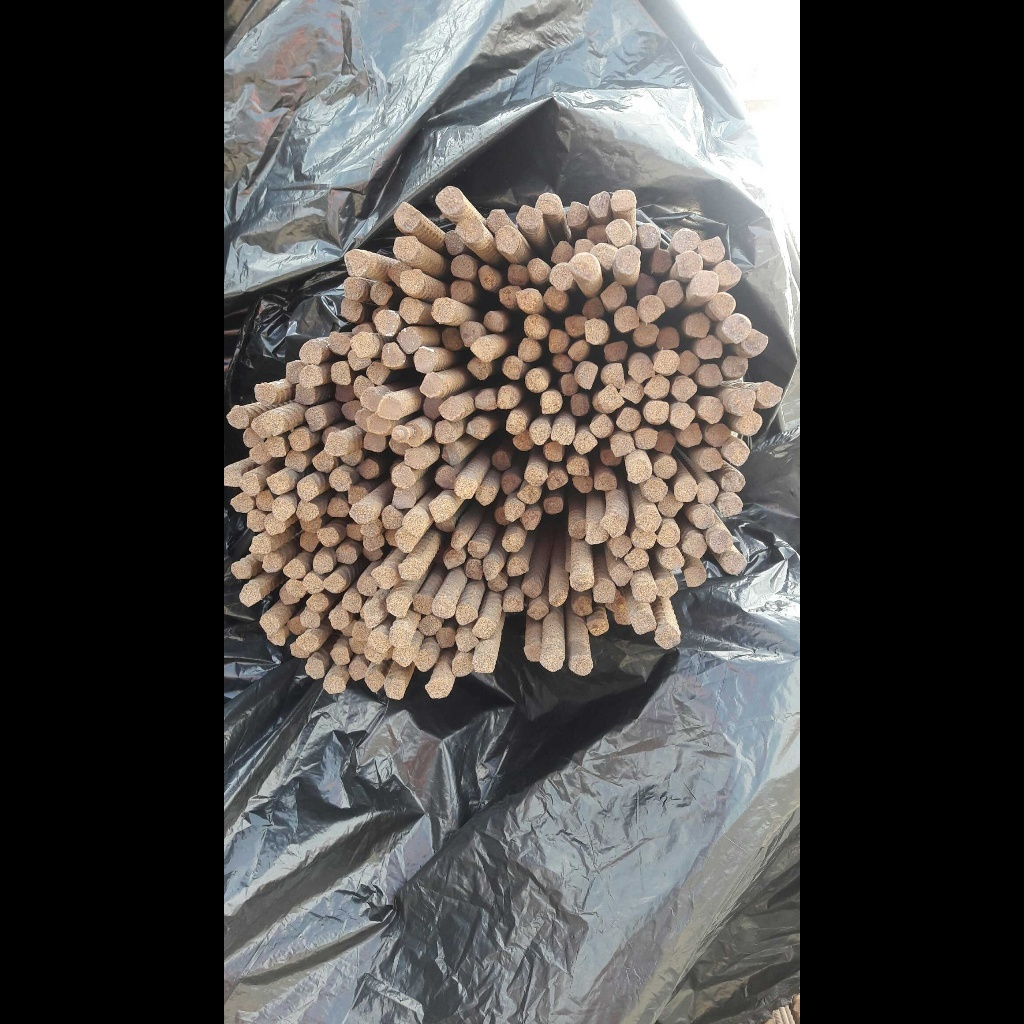dipstick: (569, 253, 600, 283), (720, 314, 751, 342), (392, 202, 418, 233), (342, 248, 369, 276), (435, 186, 463, 213), (637, 295, 664, 323), (597, 384, 624, 412), (697, 395, 724, 423), (659, 279, 685, 308), (727, 390, 756, 416), (398, 296, 423, 326), (411, 345, 436, 375), (710, 292, 735, 322), (458, 319, 482, 350), (700, 236, 727, 263), (643, 400, 670, 427), (537, 646, 565, 672), (494, 226, 520, 254), (672, 227, 700, 253), (735, 411, 763, 437), (614, 246, 639, 275), (392, 235, 419, 261), (380, 341, 407, 367), (590, 243, 616, 270), (693, 271, 720, 297), (613, 306, 640, 332), (707, 526, 733, 553), (675, 251, 703, 276), (716, 260, 741, 288), (696, 335, 724, 360), (670, 376, 698, 401), (404, 508, 430, 534), (515, 205, 541, 231), (600, 282, 626, 308), (625, 458, 651, 484), (375, 309, 400, 336), (599, 363, 626, 388), (252, 414, 281, 437), (574, 362, 597, 391), (298, 339, 323, 365), (470, 336, 495, 362), (516, 287, 541, 313), (523, 314, 549, 339), (590, 412, 615, 438), (685, 313, 711, 338), (742, 330, 768, 355), (670, 403, 696, 428), (683, 533, 708, 559), (584, 519, 609, 545), (631, 610, 657, 635), (397, 326, 421, 353), (436, 397, 463, 421), (588, 191, 612, 218), (758, 381, 782, 408), (655, 520, 679, 547), (431, 297, 454, 325), (614, 408, 642, 431), (644, 377, 673, 399), (425, 676, 450, 701), (675, 350, 700, 375), (724, 440, 749, 465), (672, 478, 697, 503), (683, 563, 708, 588), (631, 526, 656, 551), (449, 254, 473, 280), (457, 218, 483, 242), (377, 394, 401, 420), (390, 465, 416, 489), (551, 420, 575, 446), (607, 219, 631, 245), (572, 430, 598, 454), (610, 433, 636, 457), (584, 318, 607, 345), (656, 493, 683, 516), (297, 364, 325, 386), (697, 365, 725, 387), (230, 493, 259, 514), (369, 281, 393, 306), (366, 414, 391, 438), (272, 497, 297, 521), (543, 286, 567, 311), (582, 295, 607, 319), (634, 322, 659, 346), (628, 356, 653, 380), (699, 447, 724, 471), (656, 624, 680, 649), (438, 325, 461, 351), (394, 529, 420, 552), (609, 189, 635, 212), (497, 283, 520, 309), (636, 273, 659, 299), (722, 355, 748, 378), (678, 423, 704, 446), (696, 480, 719, 506), (634, 579, 657, 605), (367, 360, 389, 387), (603, 341, 630, 363), (654, 428, 676, 455), (566, 200, 587, 228), (392, 426, 421, 446), (398, 269, 422, 293), (481, 310, 505, 334), (465, 357, 489, 381), (383, 677, 407, 701), (637, 223, 661, 247), (517, 338, 541, 362), (654, 351, 678, 375), (620, 378, 644, 402), (635, 427, 659, 451), (328, 361, 351, 386), (293, 382, 316, 407), (563, 314, 586, 339), (652, 454, 675, 479), (351, 332, 373, 358), (500, 355, 522, 381), (535, 192, 561, 214), (415, 645, 436, 672), (433, 596, 454, 623), (339, 298, 363, 321), (450, 280, 473, 304), (328, 331, 351, 355), (253, 383, 276, 407), (539, 392, 563, 415), (525, 369, 549, 392), (486, 208, 510, 231), (507, 262, 530, 286), (657, 326, 681, 349), (705, 424, 729, 447), (718, 494, 741, 518), (645, 478, 668, 502), (637, 509, 660, 533), (475, 389, 497, 414), (326, 432, 348, 457), (227, 405, 249, 430), (454, 476, 476, 501), (527, 258, 549, 283), (390, 488, 416, 509), (345, 350, 372, 370), (435, 467, 458, 490), (388, 594, 411, 617), (551, 241, 574, 264), (341, 277, 365, 299), (265, 471, 287, 495), (405, 447, 429, 469), (440, 442, 462, 466), (473, 651, 495, 675), (569, 655, 593, 677), (723, 550, 745, 574), (601, 513, 623, 537), (661, 548, 683, 572), (420, 372, 441, 397), (305, 407, 326, 432), (312, 450, 333, 475), (472, 481, 493, 506), (553, 266, 574, 291), (721, 471, 746, 492), (609, 534, 630, 559), (477, 264, 496, 291), (496, 387, 518, 410), (329, 469, 351, 492), (287, 429, 310, 451), (433, 421, 456, 443), (372, 566, 394, 589), (593, 581, 615, 604), (569, 394, 591, 417), (692, 503, 714, 526), (656, 576, 678, 599), (412, 592, 433, 616), (548, 328, 568, 353), (624, 550, 649, 570), (386, 260, 405, 286), (363, 434, 389, 453), (350, 503, 376, 522), (506, 496, 525, 522), (652, 248, 671, 274), (296, 479, 318, 501), (466, 418, 488, 440), (473, 617, 495, 639), (526, 599, 548, 621), (513, 430, 535, 452), (326, 498, 349, 519), (547, 469, 568, 492), (551, 352, 574, 373), (245, 509, 265, 533), (342, 591, 362, 615), (503, 531, 523, 555), (505, 410, 525, 434), (566, 457, 590, 477), (444, 229, 463, 254), (365, 669, 384, 694), (593, 473, 618, 492), (430, 500, 452, 521), (264, 514, 285, 536), (451, 655, 473, 676), (456, 629, 477, 651), (506, 557, 528, 578), (543, 441, 564, 463), (570, 339, 592, 360), (285, 450, 305, 473), (316, 527, 339, 547), (311, 554, 334, 574), (239, 586, 262, 606), (276, 584, 299, 604), (322, 574, 345, 594), (392, 647, 415, 667), (454, 605, 477, 625), (524, 466, 547, 486), (530, 422, 550, 445), (587, 224, 610, 244), (422, 395, 441, 419), (249, 535, 273, 554), (570, 573, 594, 592), (305, 593, 330, 611), (361, 603, 382, 624), (435, 628, 456, 649), (346, 484, 366, 506), (266, 438, 286, 460), (240, 473, 260, 495), (297, 632, 319, 652), (398, 561, 420, 581), (559, 373, 579, 395), (352, 375, 371, 398), (501, 471, 520, 494), (299, 609, 322, 628), (305, 656, 324, 679), (387, 627, 410, 646), (331, 383, 355, 401), (598, 450, 623, 467), (249, 443, 270, 463), (419, 615, 439, 636), (335, 545, 357, 564), (297, 501, 319, 520), (466, 540, 488, 559), (571, 475, 593, 494), (611, 564, 630, 586), (481, 556, 499, 579), (522, 508, 540, 531), (261, 553, 281, 573), (304, 573, 324, 593), (357, 576, 377, 596), (388, 437, 407, 458), (358, 460, 379, 479), (243, 428, 264, 447), (283, 559, 304, 578), (382, 506, 400, 528), (465, 558, 483, 580), (522, 642, 540, 664), (284, 360, 301, 383), (340, 399, 357, 422), (225, 466, 242, 489), (298, 516, 321, 533), (322, 677, 345, 694), (348, 658, 365, 681), (491, 450, 510, 470), (345, 522, 364, 542), (285, 578, 305, 597), (330, 647, 350, 666), (329, 608, 348, 628), (520, 485, 540, 504), (298, 532, 319, 550), (231, 562, 252, 580), (444, 550, 465, 568), (522, 579, 543, 597), (590, 615, 608, 636), (360, 520, 383, 536), (504, 593, 523, 612), (573, 597, 592, 616), (367, 632, 388, 649), (362, 534, 384, 550), (320, 427, 339, 445), (353, 619, 371, 638), (365, 644, 383, 663), (489, 574, 507, 593), (257, 491, 274, 511), (259, 615, 279, 632), (451, 530, 468, 550), (542, 497, 562, 514), (265, 630, 286, 646), (609, 591, 625, 612), (288, 617, 306, 635), (342, 448, 361, 465), (493, 506, 510, 525), (574, 238, 593, 255), (350, 323, 374, 336), (355, 407, 368, 431), (570, 521, 587, 539), (550, 587, 566, 606), (383, 528, 398, 548), (289, 643, 309, 658), (435, 518, 456, 532), (617, 608, 633, 626), (361, 548, 383, 561), (368, 306, 387, 321), (349, 638, 365, 655), (343, 620, 357, 637)
